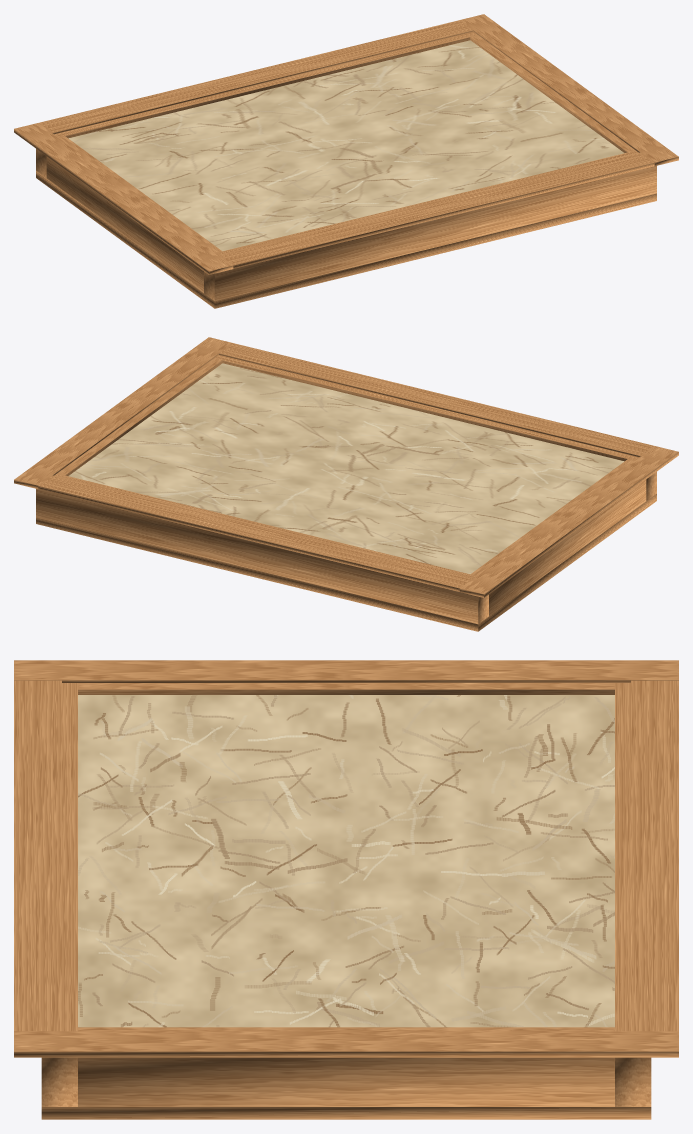
The model's file is rat_nest_box.fbx.
3 renders of one model, top to bottom at view 1: azimuth 30°, elevation 25°; view 2: azimuth 150°, elevation 25°; view 3: azimuth 270°, elevation 25°, orthographic. The views are drawn at different scales.
Parts seen in each view (by area): view 1: Nest_Bedding_Layer, Front_Wall, Front_Top_Rim, Back_Top_Rim, Left_Top_Rim, Right_Top_Rim, Box_Bottom, Left_Wall, Back_Wall, Right_Wall; view 2: Nest_Bedding_Layer, Back_Wall, Back_Top_Rim, Front_Top_Rim, Left_Top_Rim, Right_Top_Rim, Box_Bottom, Left_Wall, Front_Wall, Right_Wall; view 3: Nest_Bedding_Layer, Right_Wall, Right_Top_Rim, Back_Top_Rim, Front_Top_Rim, Left_Top_Rim, Box_Bottom, Back_Wall, Front_Wall, Left_Wall.
Part boxes in pixels (bbox=[...]): Nest_Bedding_Layer: bbox=[68, 40, 624, 251]; Front_Wall: bbox=[204, 150, 656, 301]; Front_Top_Rim: bbox=[219, 152, 654, 268]; Back_Top_Rim: bbox=[39, 20, 473, 134]; Left_Top_Rim: bbox=[14, 123, 233, 274]; Right_Top_Rim: bbox=[460, 14, 678, 165]; Box_Bottom: bbox=[36, 171, 656, 308]; Left_Wall: bbox=[46, 136, 221, 292]; Back_Wall: bbox=[36, 32, 477, 177]; Right_Wall: bbox=[470, 35, 635, 152]; Nest_Bedding_Layer: bbox=[68, 363, 624, 574]; Back_Wall: bbox=[36, 473, 488, 624]; Back_Top_Rim: bbox=[38, 475, 473, 591]; Front_Top_Rim: bbox=[219, 343, 653, 457]; Left_Top_Rim: bbox=[459, 446, 678, 597]; Right_Top_Rim: bbox=[14, 337, 232, 488]; Box_Bottom: bbox=[36, 494, 656, 631]; Left_Wall: bbox=[471, 459, 646, 615]; Front_Wall: bbox=[215, 355, 656, 500]; Right_Wall: bbox=[57, 358, 222, 475]; Nest_Bedding_Layer: bbox=[78, 695, 614, 1027]; Right_Wall: bbox=[78, 1027, 614, 1106]; Right_Top_Rim: bbox=[14, 1031, 678, 1057]; Back_Top_Rim: bbox=[631, 680, 678, 1031]; Front_Top_Rim: bbox=[14, 680, 61, 1031]; Left_Top_Rim: bbox=[14, 660, 678, 682]; Box_Bottom: bbox=[41, 1107, 651, 1119]; Back_Wall: bbox=[615, 683, 651, 1106]; Front_Wall: bbox=[41, 683, 77, 1106]; Left_Wall: bbox=[78, 683, 614, 694].
Size of the model in its own units: 638 by 60.65 by 458.
2 materials, 2 textured.
